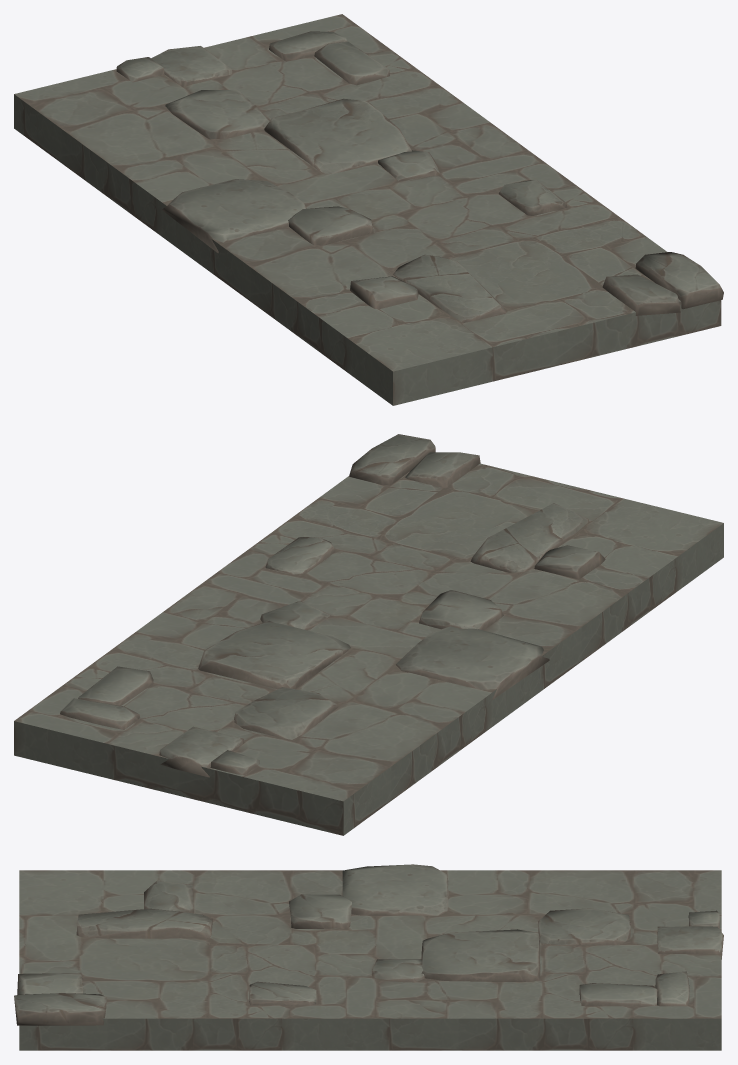
File: SM_FW01_Ruins_Int_Floor_2x4_01.fbx
The picture shows the model from 3 angles, top to bottom: view 1: azimuth 30°, elevation 25°; view 2: azimuth 150°, elevation 25°; view 3: azimuth 270°, elevation 25°; orthographic projection. The views are drawn at different scales.
Visible parts, largest first — view 1: SM_FW01_Ruins_Int_Floor_2x4_01, SM_FW01_Ruins_Int_Floor_2x4_01_LOD0; view 2: SM_FW01_Ruins_Int_Floor_2x4_01, SM_FW01_Ruins_Int_Floor_2x4_01_LOD0; view 3: SM_FW01_Ruins_Int_Floor_2x4_01, SM_FW01_Ruins_Int_Floor_2x4_01_LOD0.
Part boxes in pixels (box(x1,y1,x2,y2)): SM_FW01_Ruins_Int_Floor_2x4_01: box(14, 14, 721, 405); SM_FW01_Ruins_Int_Floor_2x4_01_LOD0: box(116, 31, 723, 322); SM_FW01_Ruins_Int_Floor_2x4_01: box(14, 463, 723, 835); SM_FW01_Ruins_Int_Floor_2x4_01_LOD0: box(60, 434, 605, 777); SM_FW01_Ruins_Int_Floor_2x4_01: box(19, 870, 721, 1050); SM_FW01_Ruins_Int_Floor_2x4_01_LOD0: box(14, 864, 723, 1025).
Size of what is drawn, in the model's own units: 2.02 by 0.2782 by 4.04.
